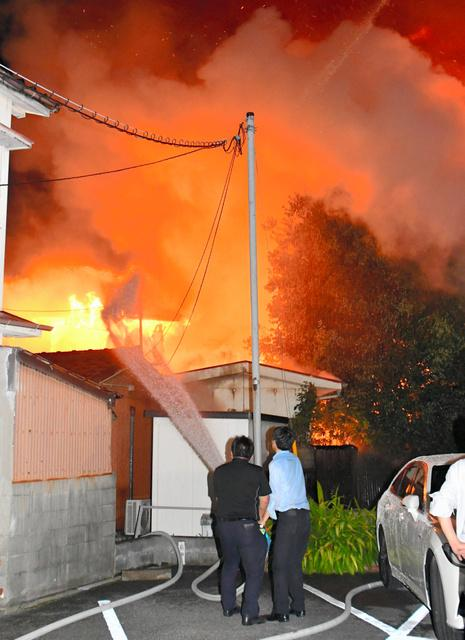Fire: (44, 134, 233, 355)
